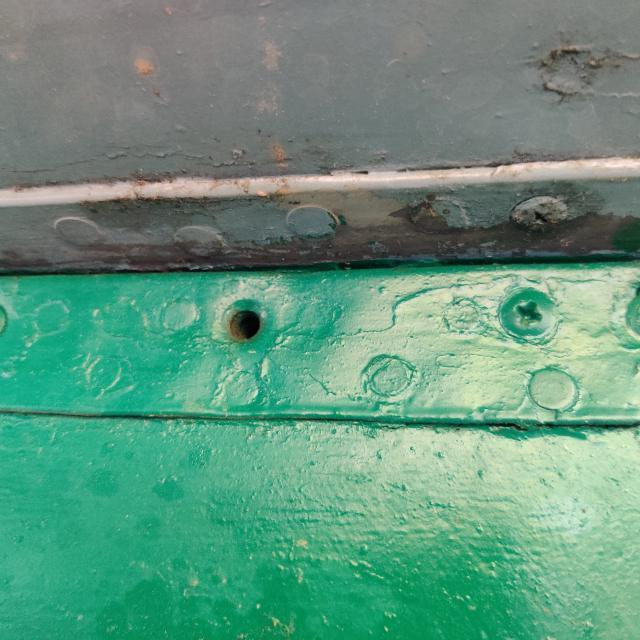Fastener Damage: (196, 282, 286, 372)
